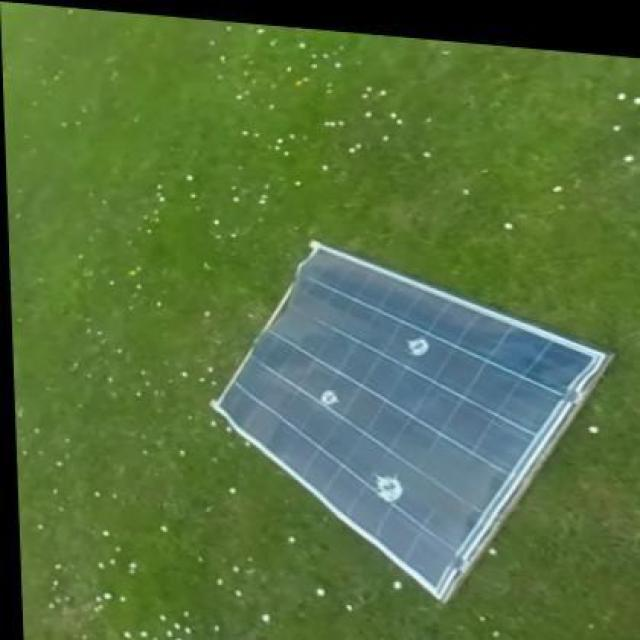soiled: (213, 242, 614, 602)
